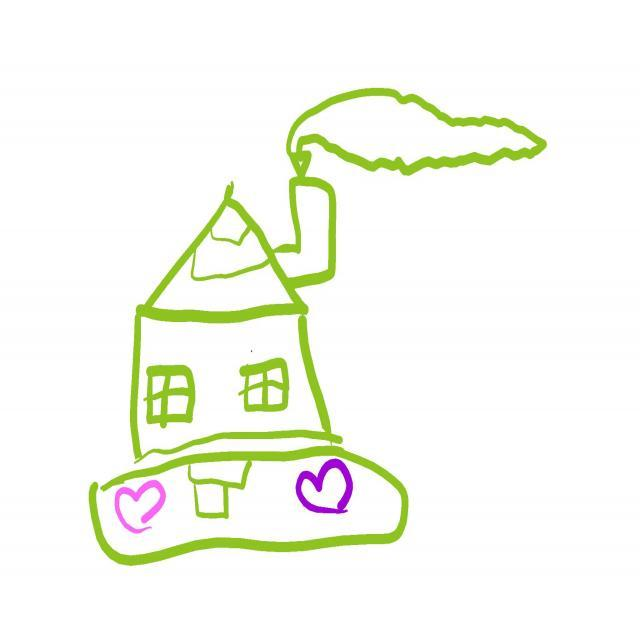chimney: (277, 186, 331, 284)
house: (130, 176, 336, 461)
roof: (137, 192, 311, 321)
wall: (133, 315, 326, 458)
window: (144, 366, 195, 429), (239, 359, 289, 413)
